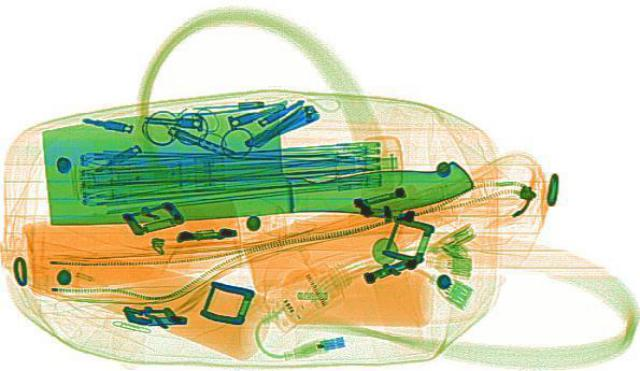Knife: (38, 105, 476, 224)
